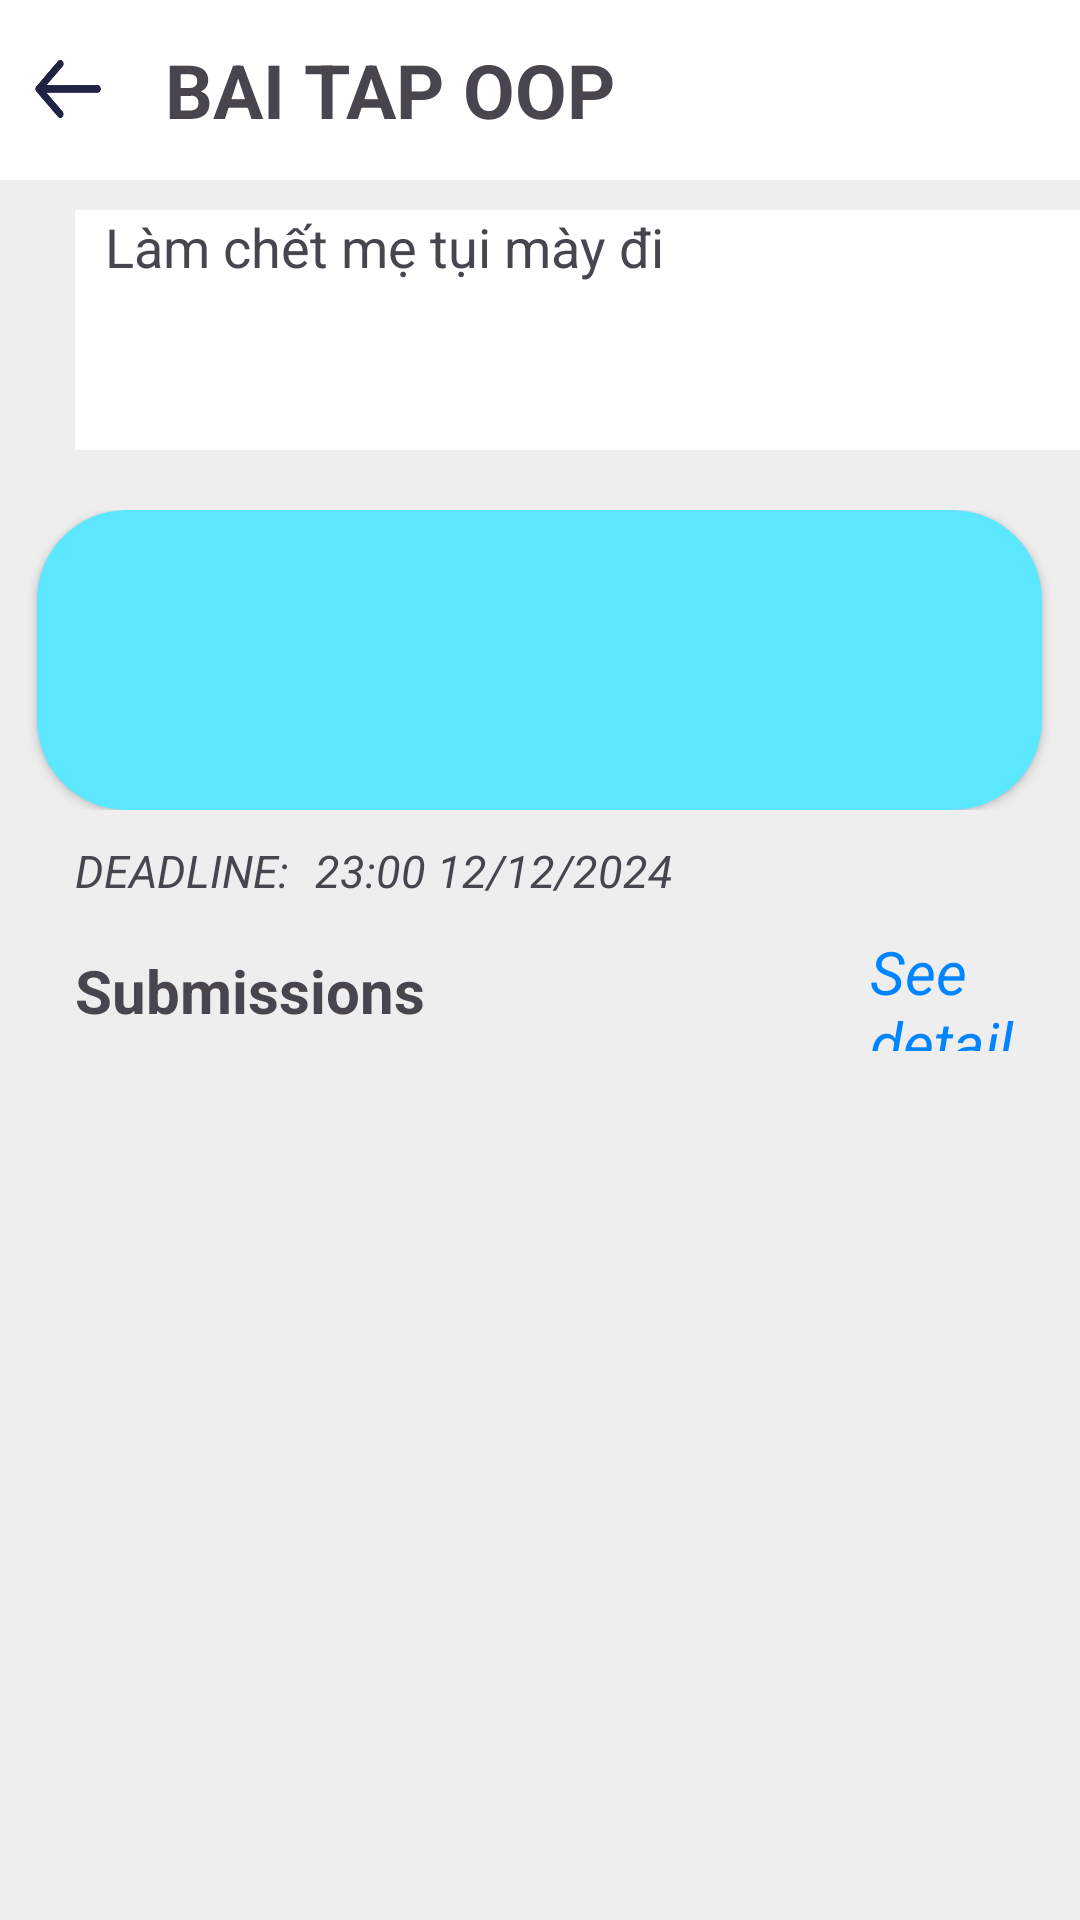

Screen size 1080w x 1920h. Icon name, then its box in pixels as box=[x1, y1, x2, y2]:
back: box=[35, 60, 101, 118]
